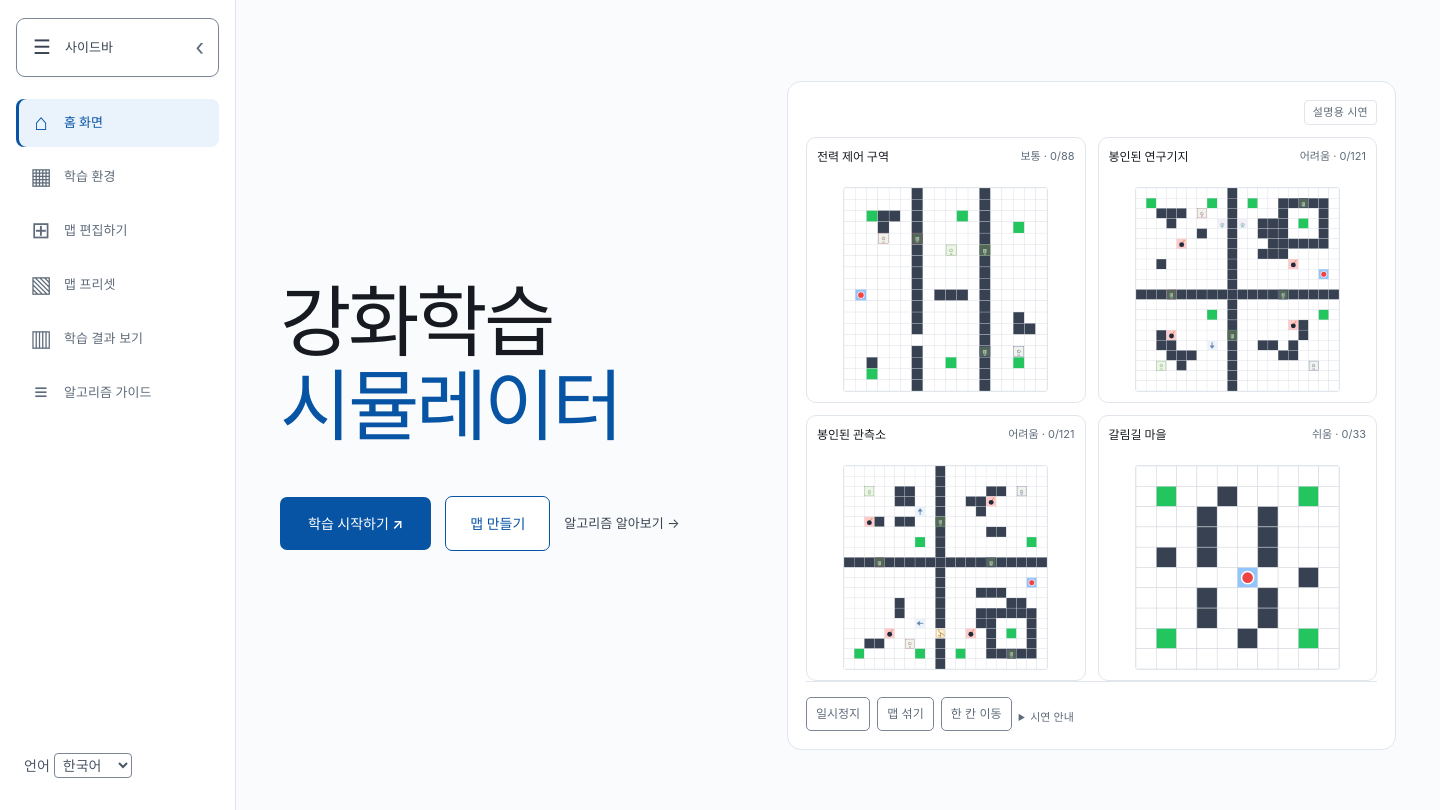
Test: training-complete toast › formats thousands and reports only the latest request
Click the button with test id "nav-environment" at [118, 176], box [16,152,219,200]
Wait 4000 ms
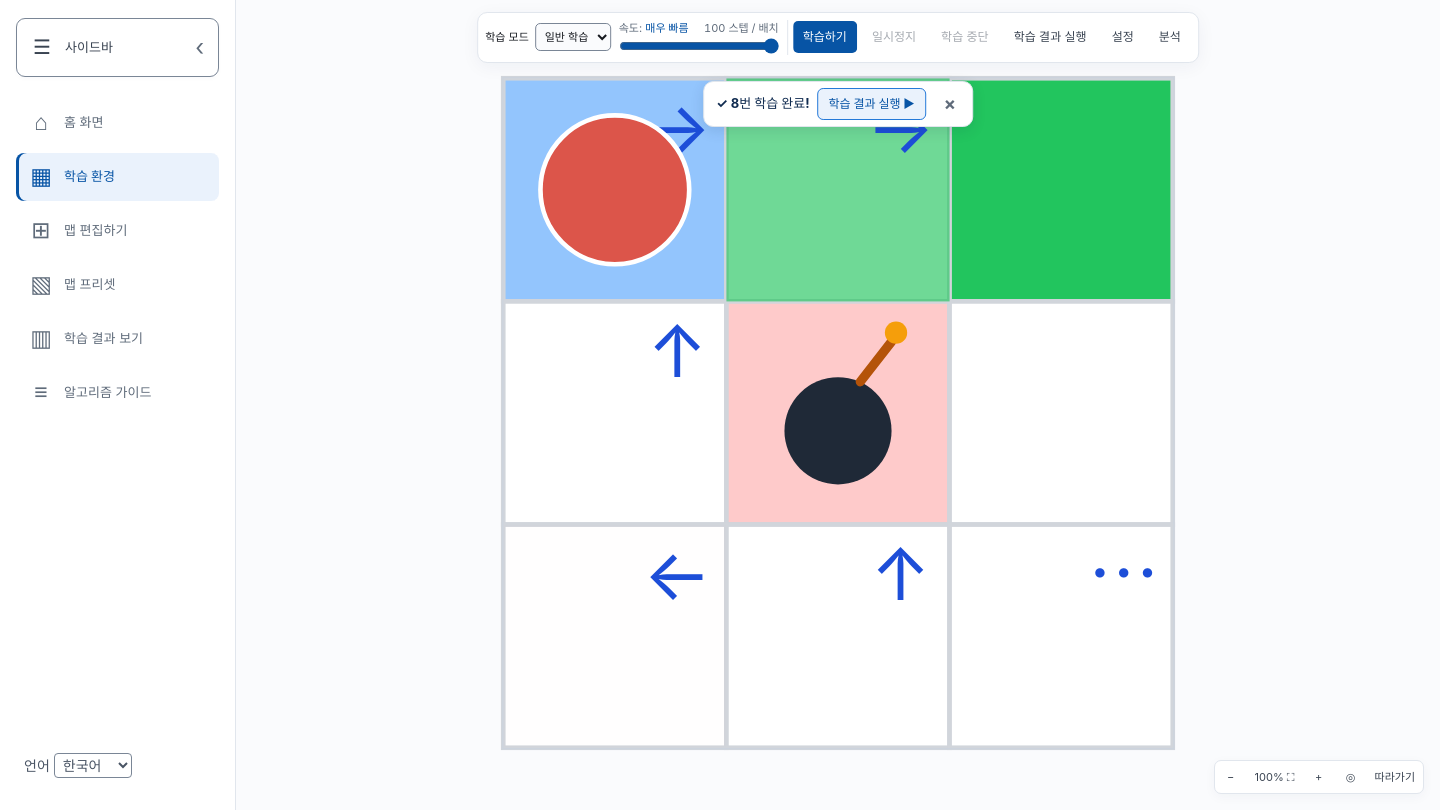
Click the button with test id "completion-close" at [950, 104], box [934,88,966,120]
Wait 4000 ms
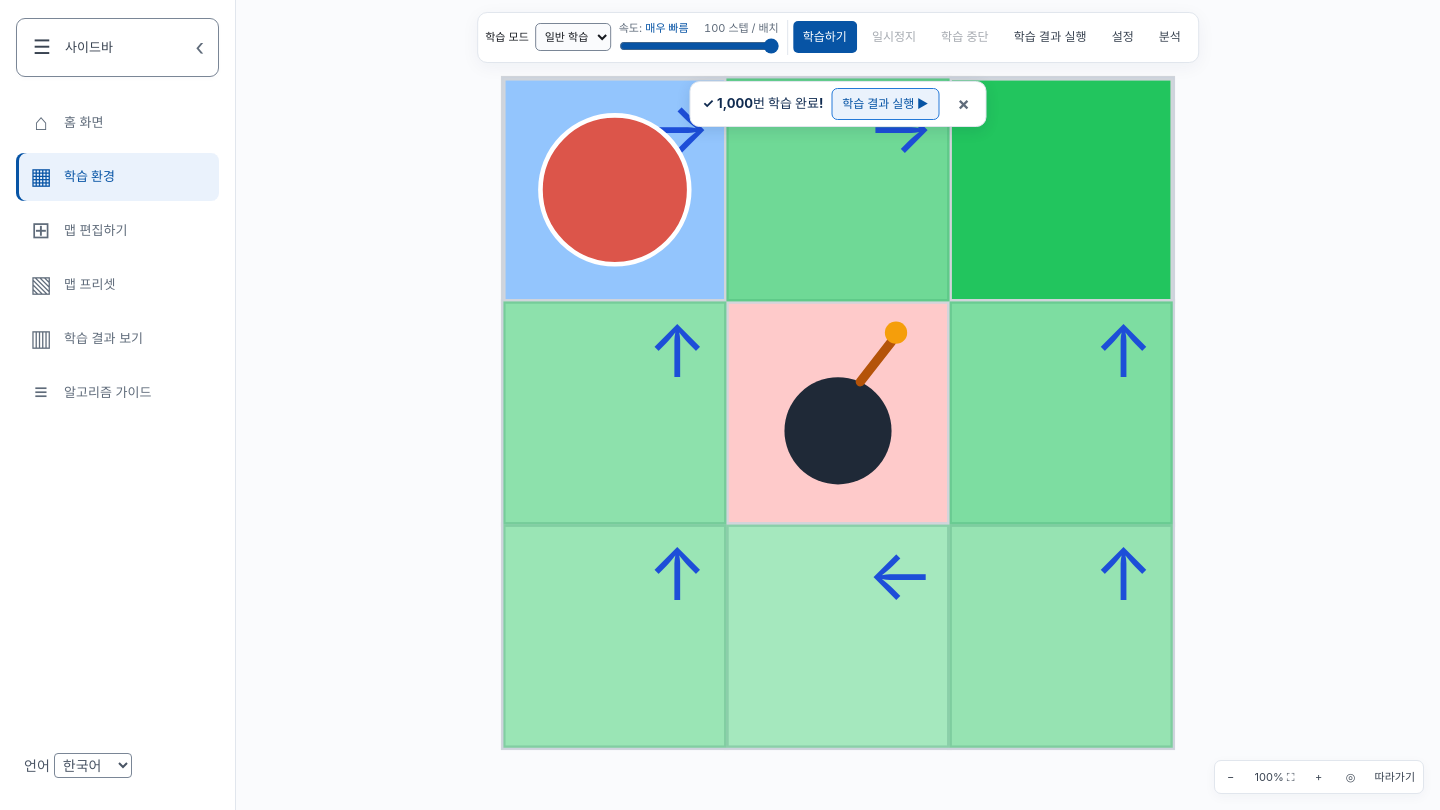
Check: the text with test id "completion-message" reads "1,000번 학습 완료!", box [717,95,823,111]
